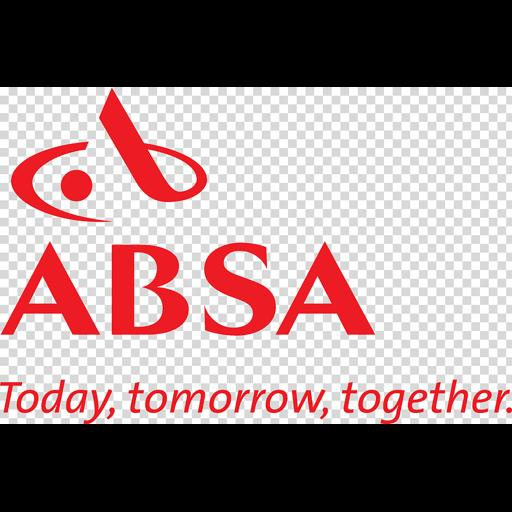Absa Group: (0, 87, 512, 424)
